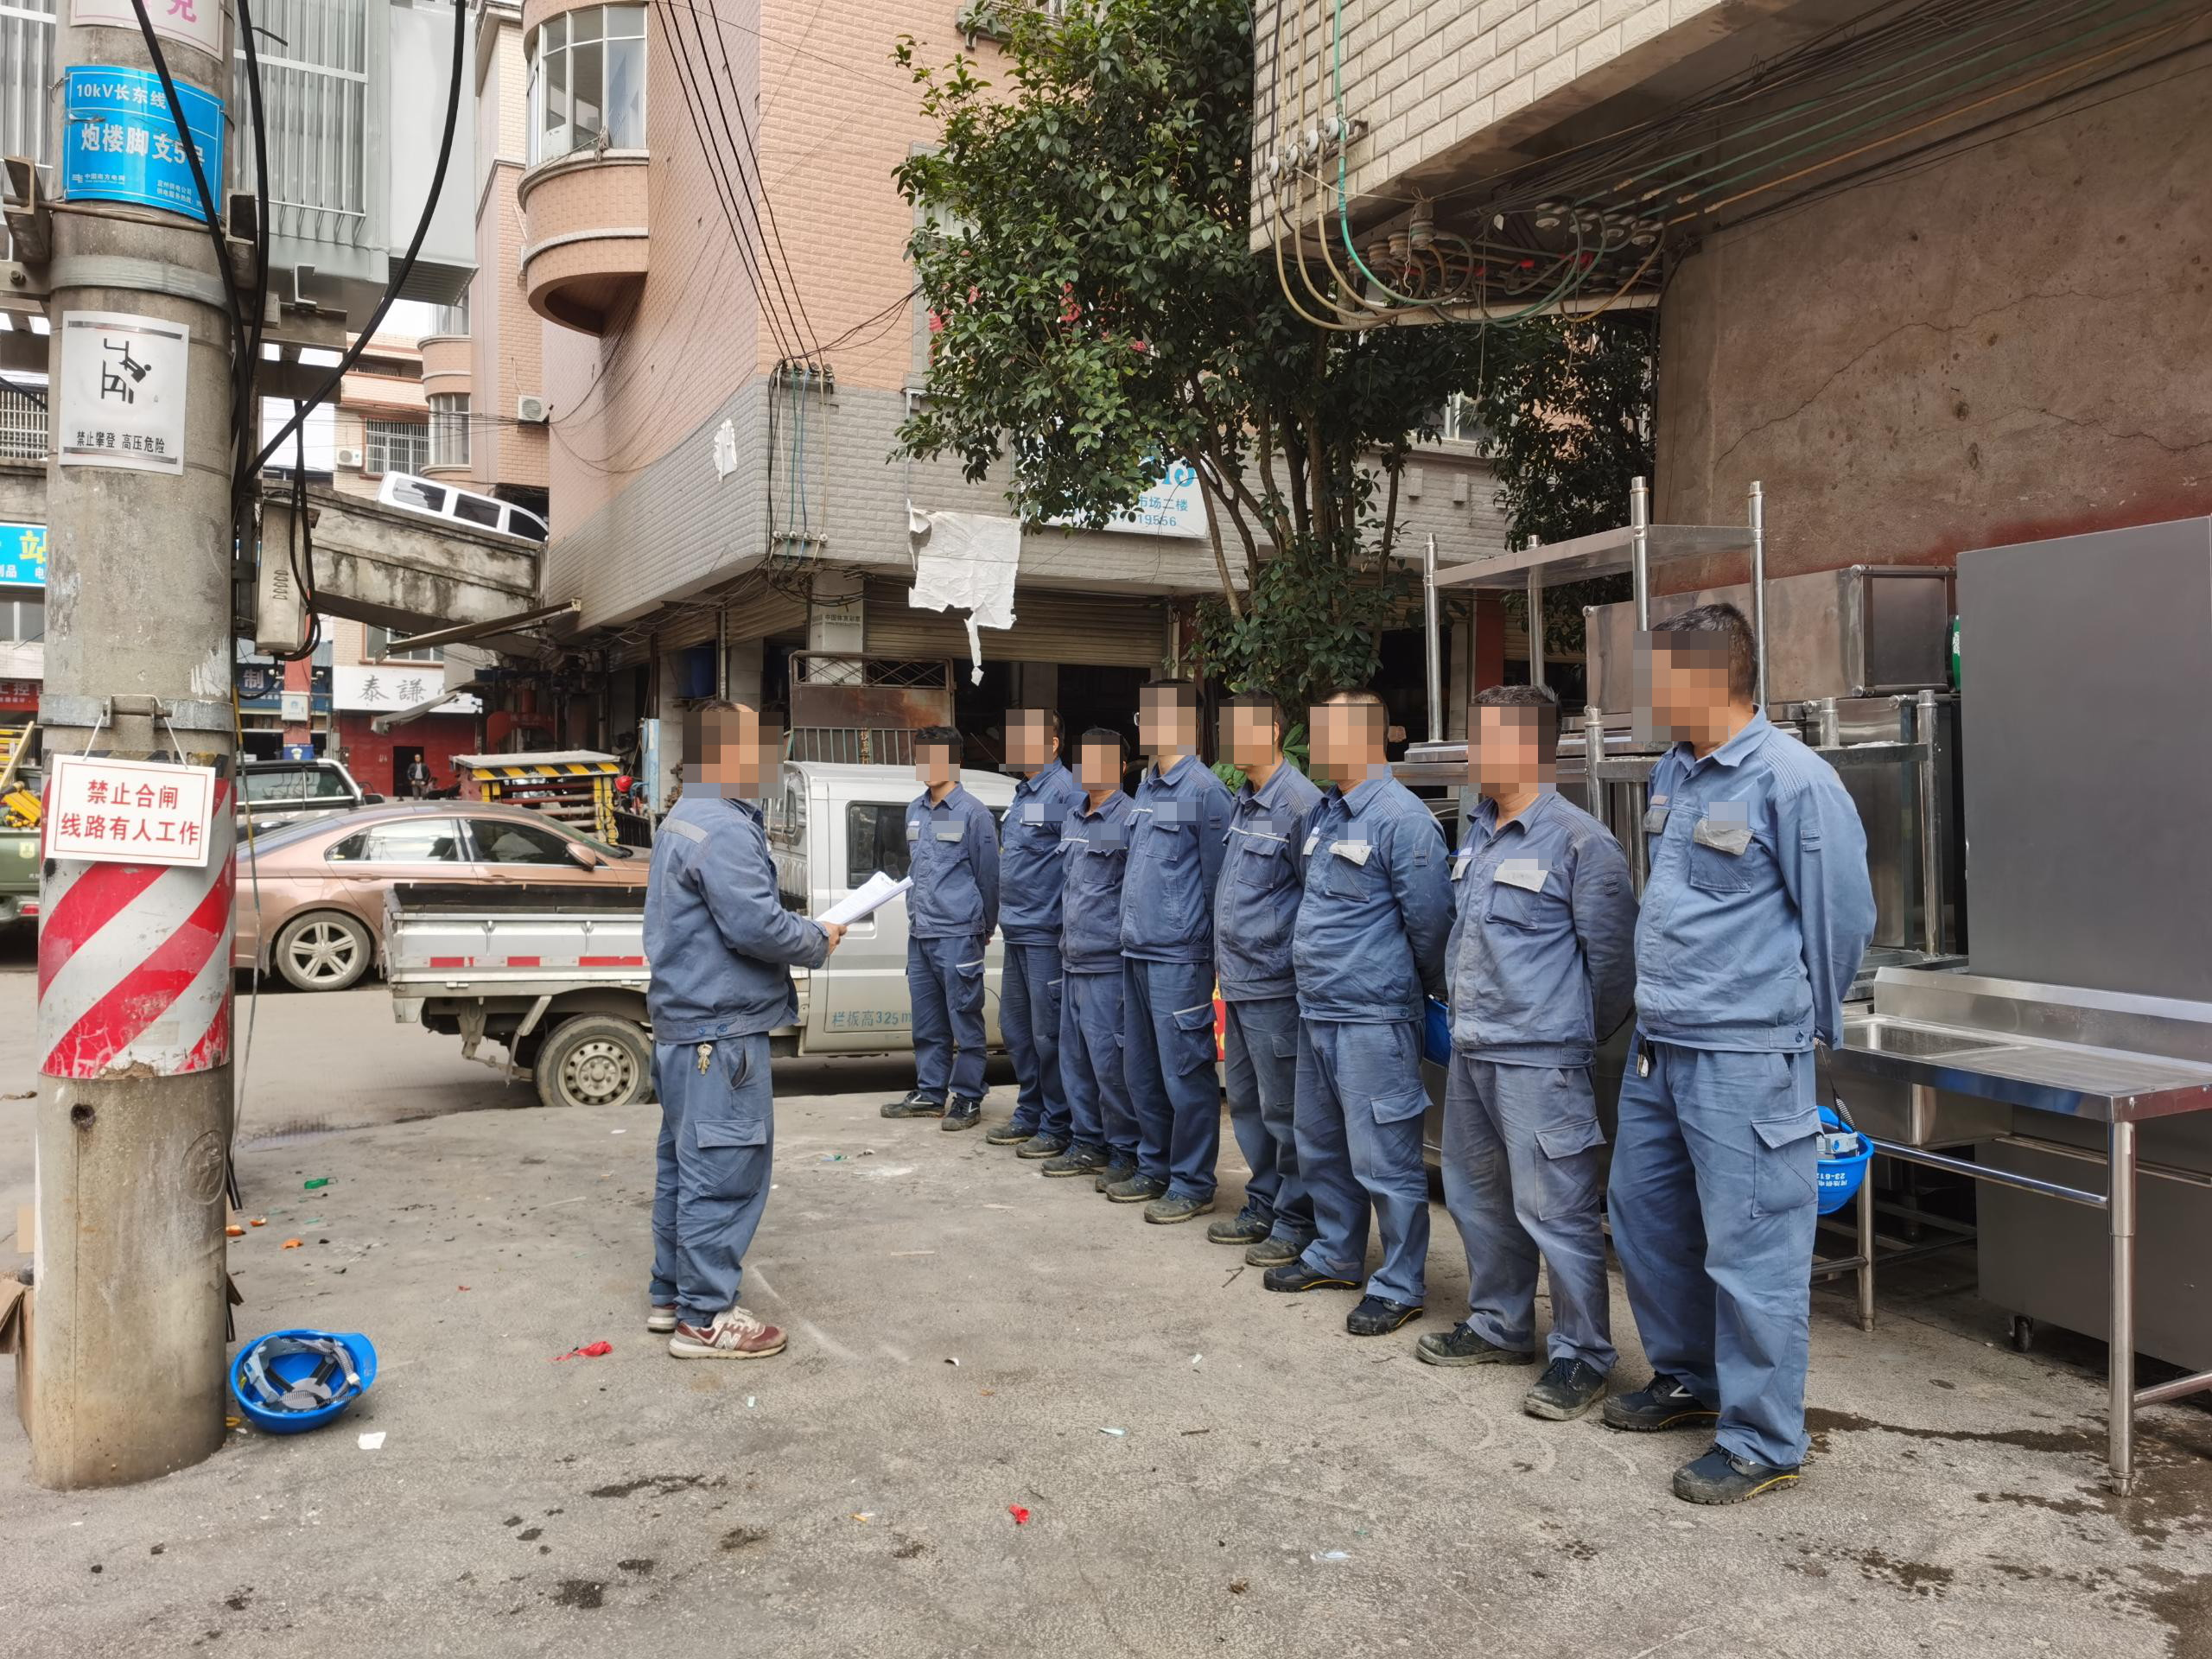downsuit: (1611, 1064, 1836, 1459), (1446, 1065, 1618, 1374), (1289, 1029, 1440, 1293), (639, 1056, 783, 1311), (1124, 966, 1226, 1186), (1052, 970, 1144, 1159), (1215, 1014, 1304, 1198), (906, 955, 992, 1096), (990, 944, 1066, 1108)
hand: (813, 918, 845, 957)
noear: (1678, 672, 1723, 718), (1510, 735, 1550, 780), (1351, 728, 1382, 770), (721, 730, 747, 779), (1255, 719, 1283, 758), (1172, 715, 1200, 746), (1109, 759, 1128, 785), (1041, 737, 1060, 760), (949, 752, 964, 774)
person: (1623, 595, 1891, 1499), (626, 696, 842, 1344), (1455, 653, 1627, 1384), (1287, 677, 1449, 1337), (1123, 686, 1222, 1230), (1210, 690, 1297, 1191), (892, 727, 1000, 1124), (1060, 721, 1128, 1157)
unhalt: (1653, 600, 1759, 737), (1459, 674, 1563, 802), (681, 698, 776, 792), (1306, 690, 1400, 782), (1136, 683, 1201, 765), (1221, 698, 1294, 772), (1069, 720, 1139, 796), (1006, 704, 1062, 776), (913, 735, 961, 794)
upsuit: (1635, 716, 1881, 1045), (638, 781, 833, 1039), (1456, 788, 1630, 1052), (1299, 791, 1446, 1016), (1217, 762, 1321, 987), (1121, 755, 1217, 956), (894, 788, 1001, 941), (1062, 777, 1128, 944), (996, 784, 1063, 931)
